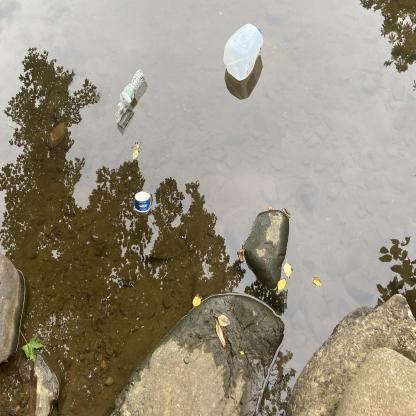trash: (216, 22, 270, 84), (112, 67, 154, 116), (133, 187, 154, 215)
